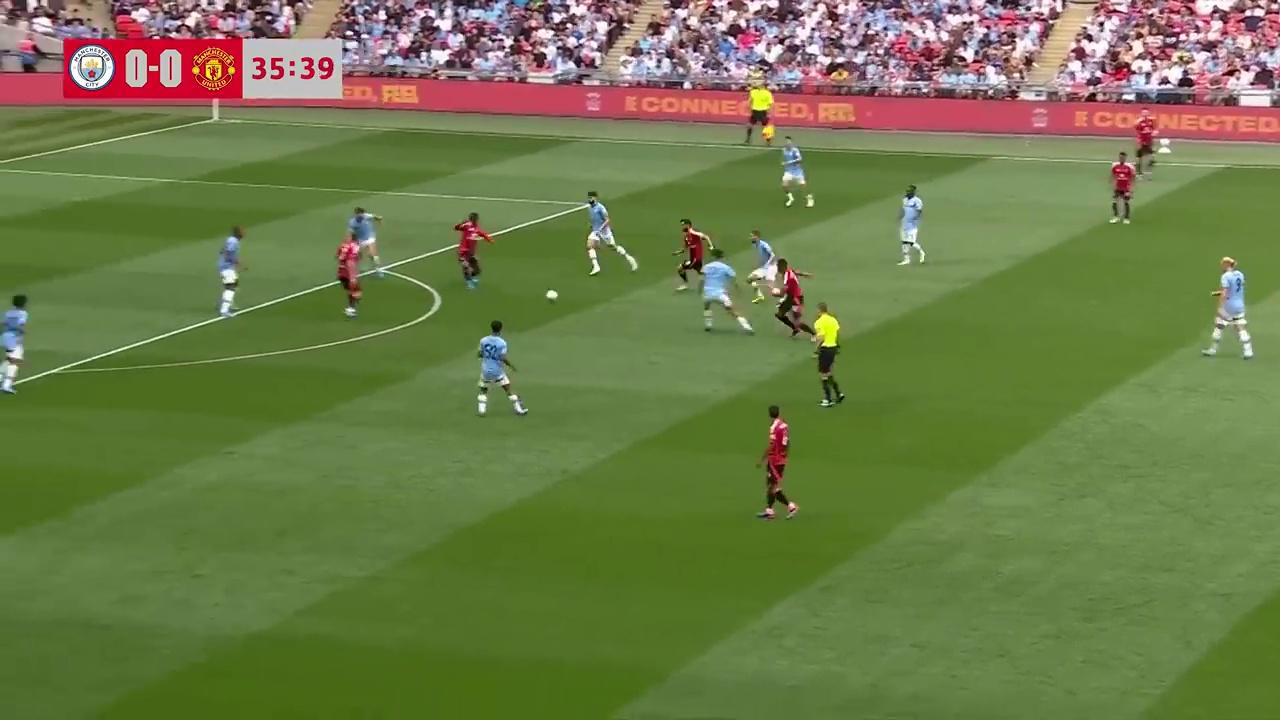ball: (544, 286, 560, 302)
player: (1201, 258, 1254, 359), (755, 404, 799, 520), (475, 320, 527, 417), (699, 246, 753, 335), (583, 191, 636, 272), (771, 260, 813, 339), (453, 212, 494, 290), (215, 224, 248, 317), (0, 292, 28, 394), (671, 218, 709, 293), (779, 136, 813, 208), (335, 231, 363, 318), (897, 185, 927, 266), (748, 229, 779, 305), (350, 205, 383, 272), (1109, 151, 1136, 224), (1134, 123, 1156, 177)
referee: (810, 302, 845, 407), (743, 93, 775, 147)
